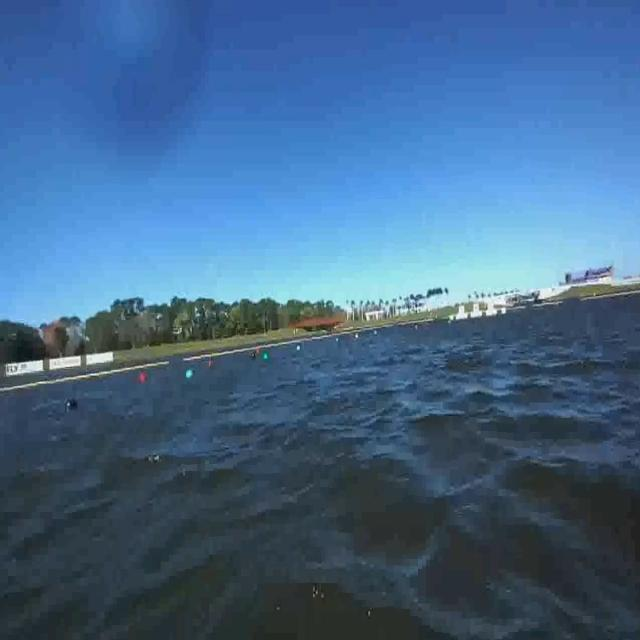black-buoy: (65, 394, 80, 416)
green-buoy: (185, 368, 193, 378)
red-buoy: (138, 373, 148, 385)
